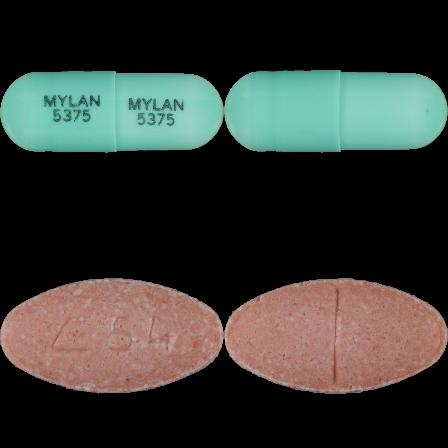64725-5375: (0, 0, 224, 224)
